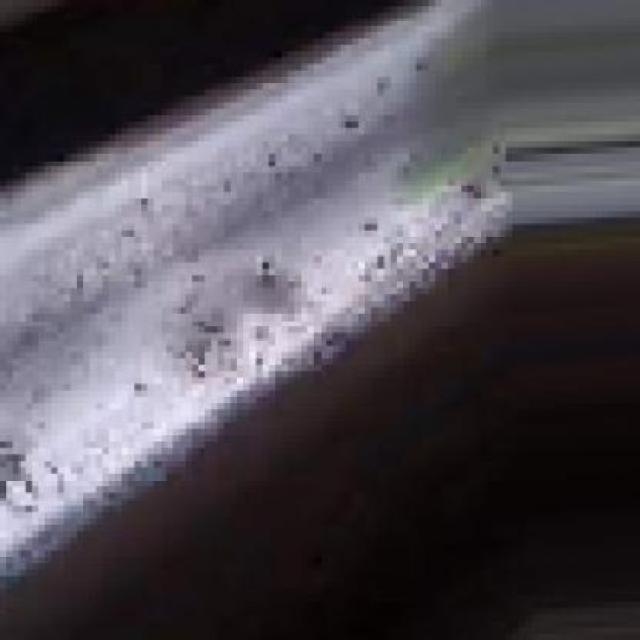defective: (10, 0, 497, 640)
